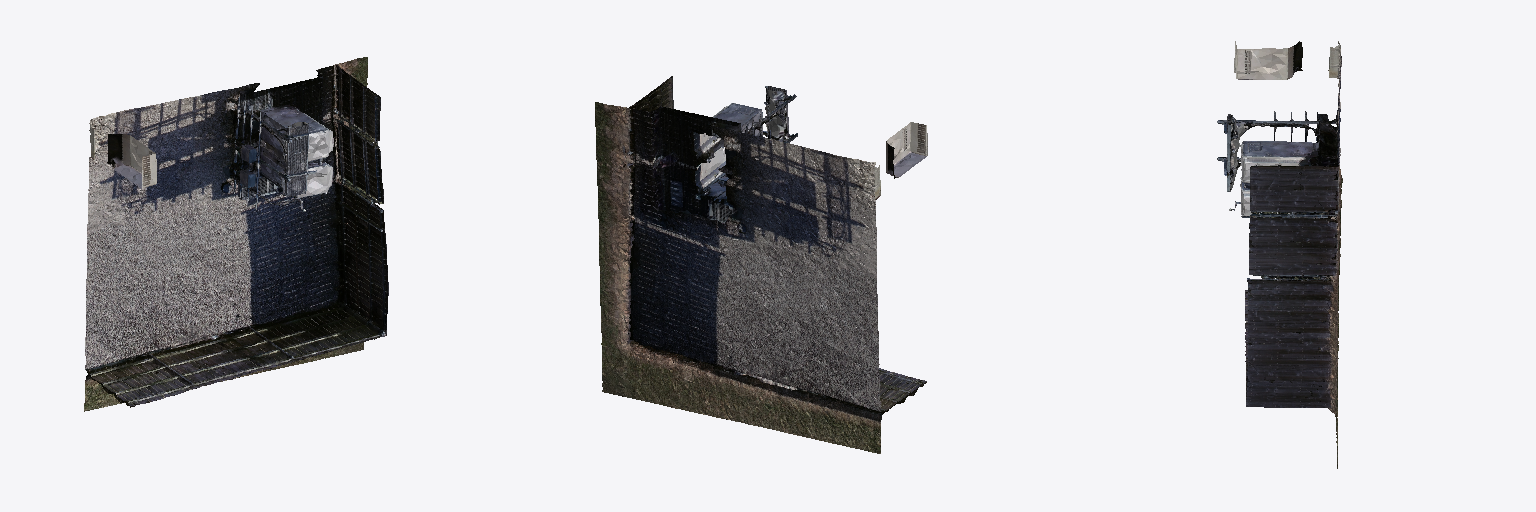
3 renders of one model, left to right at view 1: azimuth 30°, elevation 25°; view 2: azimuth 150°, elevation 25°; view 3: azimuth 270°, elevation 25°, orthographic.
Size of the model in its own units: 7.89 by 7.84 by 3.03.
2 materials, 1 textured.